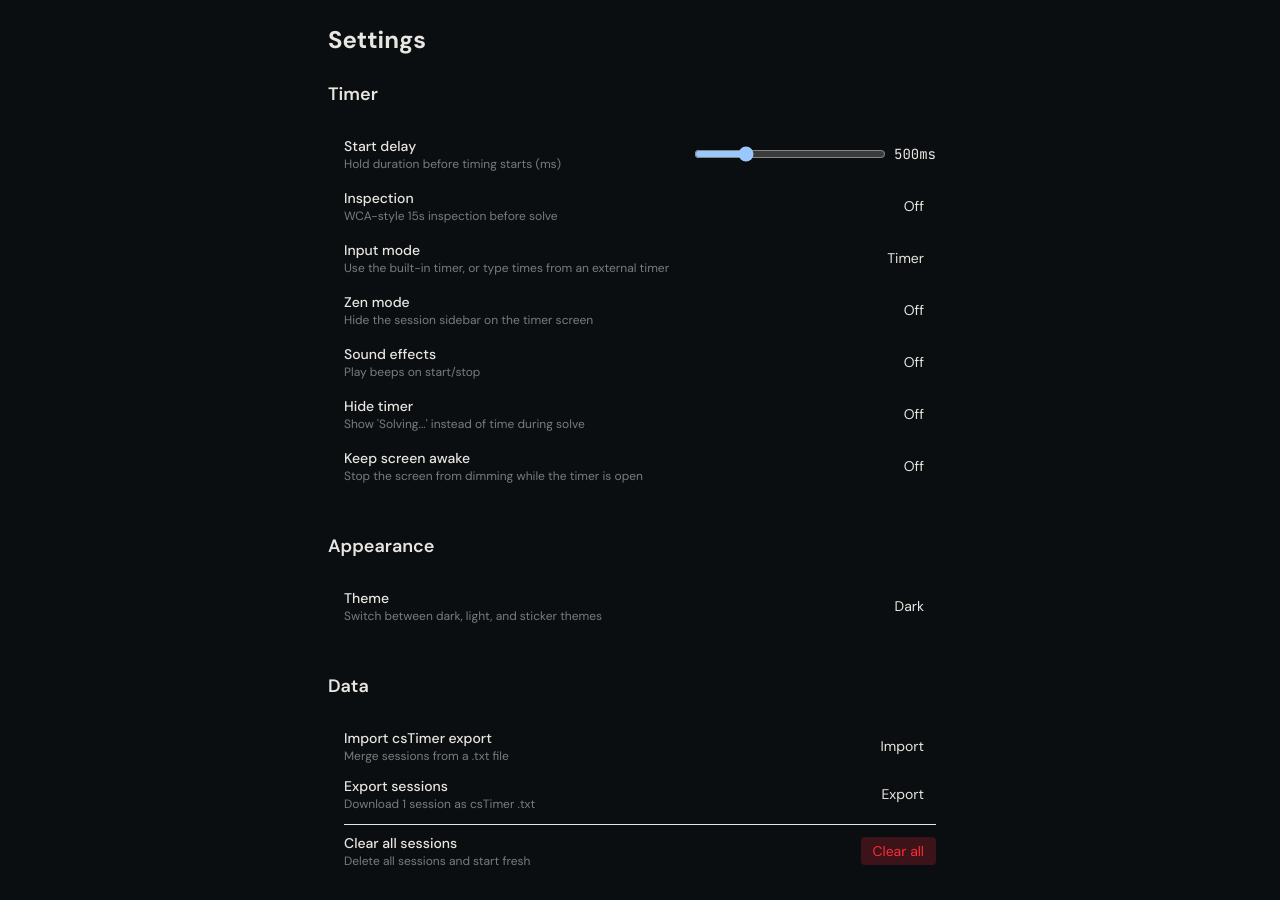
Scenario: SettingsPage › shows confirmation dialog when Clear all is clicked
Click the button "Clear all" at [898, 851], box [860,837,936,865]
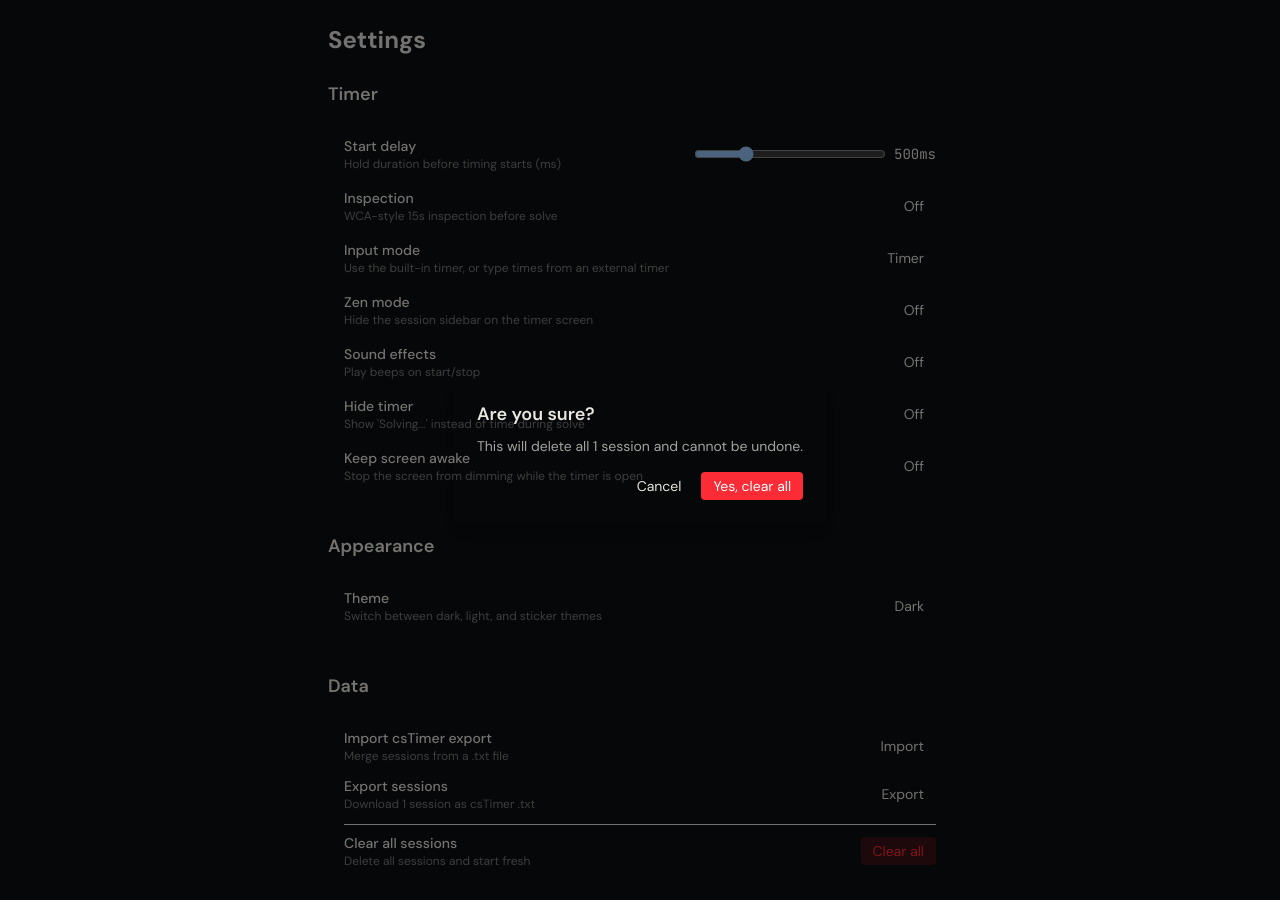
Check: the heading "Are you sure?" is shown, box [477,402,595,426]
